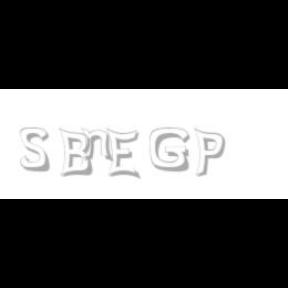B: (58, 128, 92, 178)
E: (106, 128, 140, 180)
G: (149, 128, 189, 172)
P: (193, 128, 225, 178)
S: (20, 128, 50, 172)
n: (80, 128, 114, 162)
